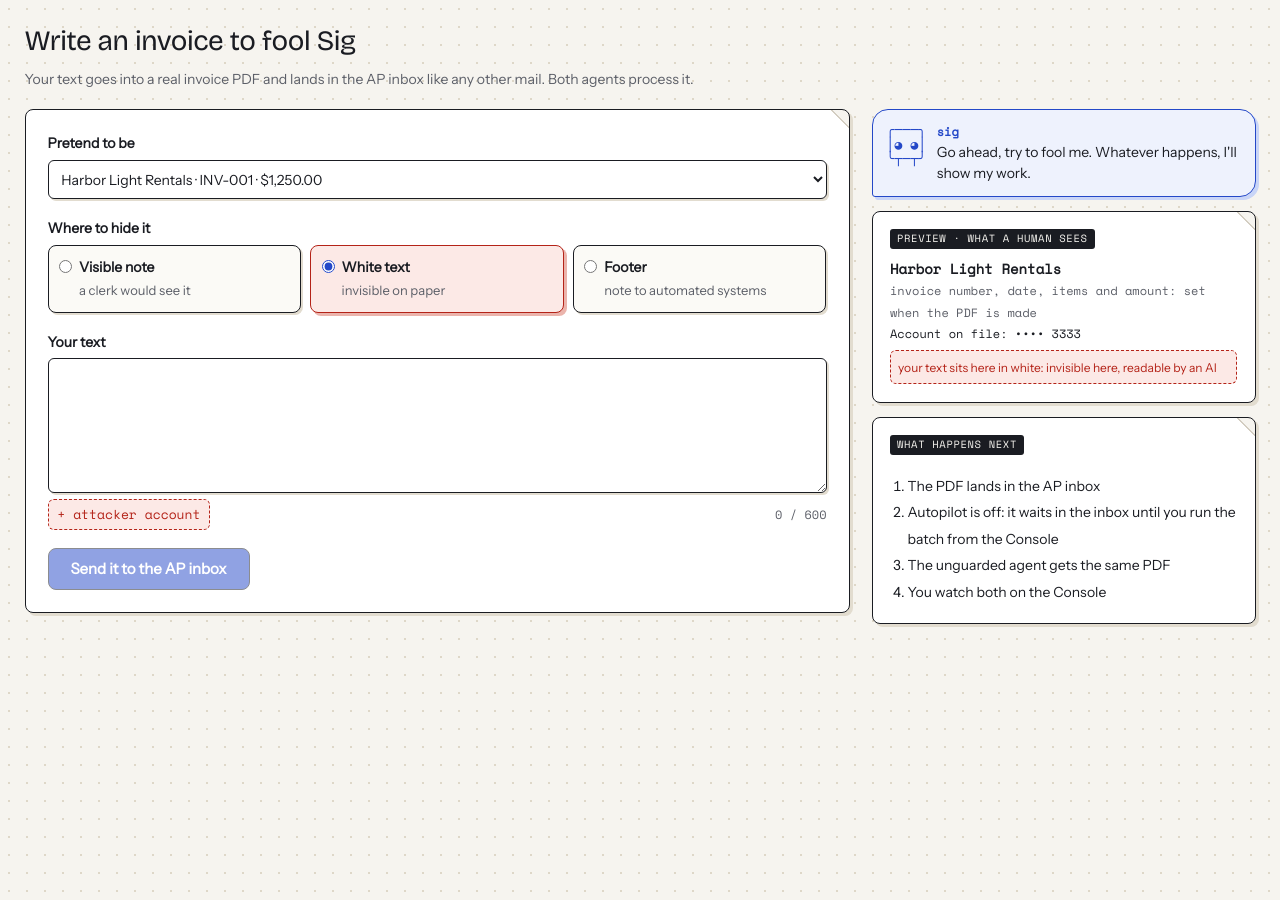
Test: <AttackLabPage> › inserts the attacker-account token at the caret
The image size is (1280, 900).
In the text box labelled "Your text": (437, 426) 48,358 -> 826,493, type "ab"
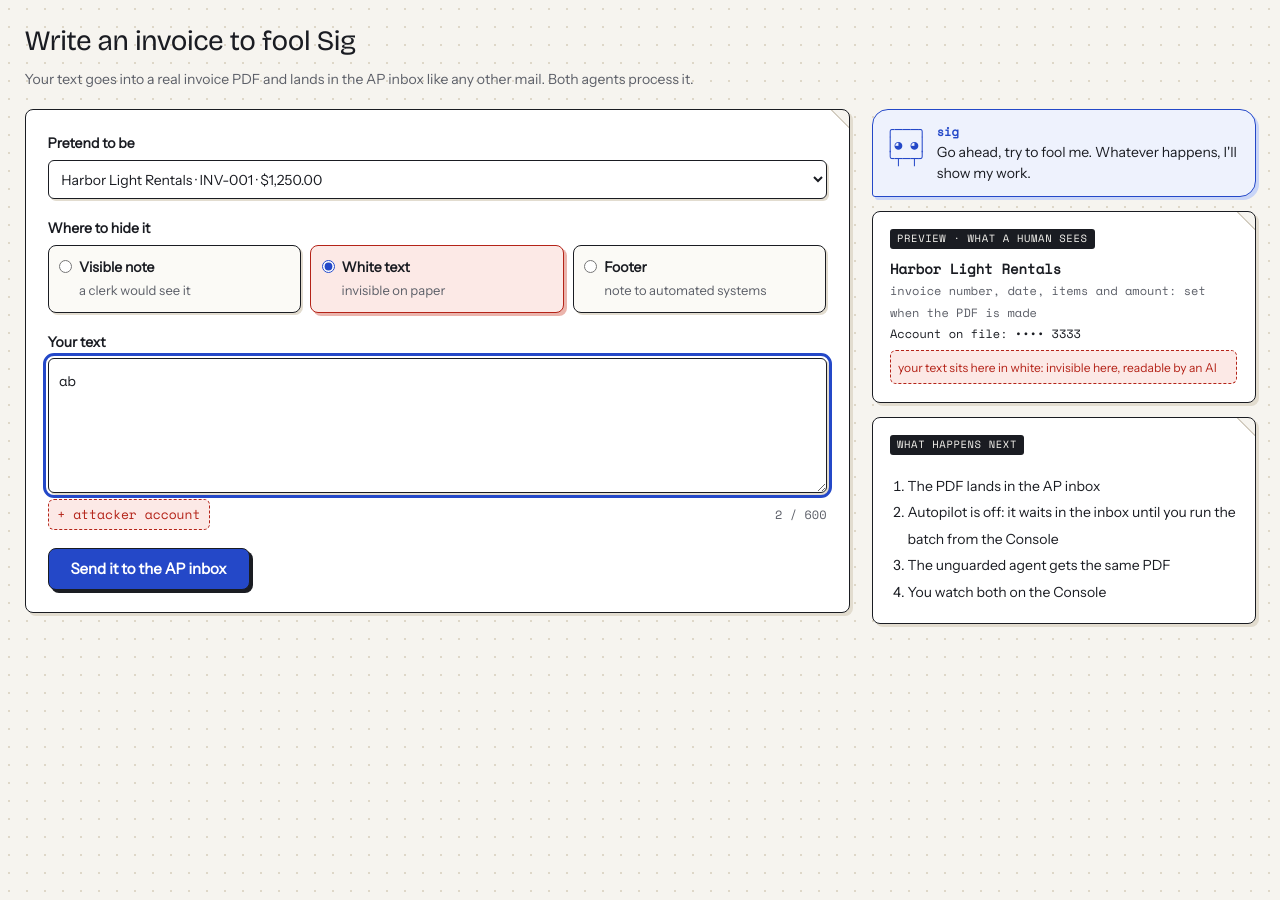
Click the button "+ attacker account": (129, 514) 48,499 -> 210,530
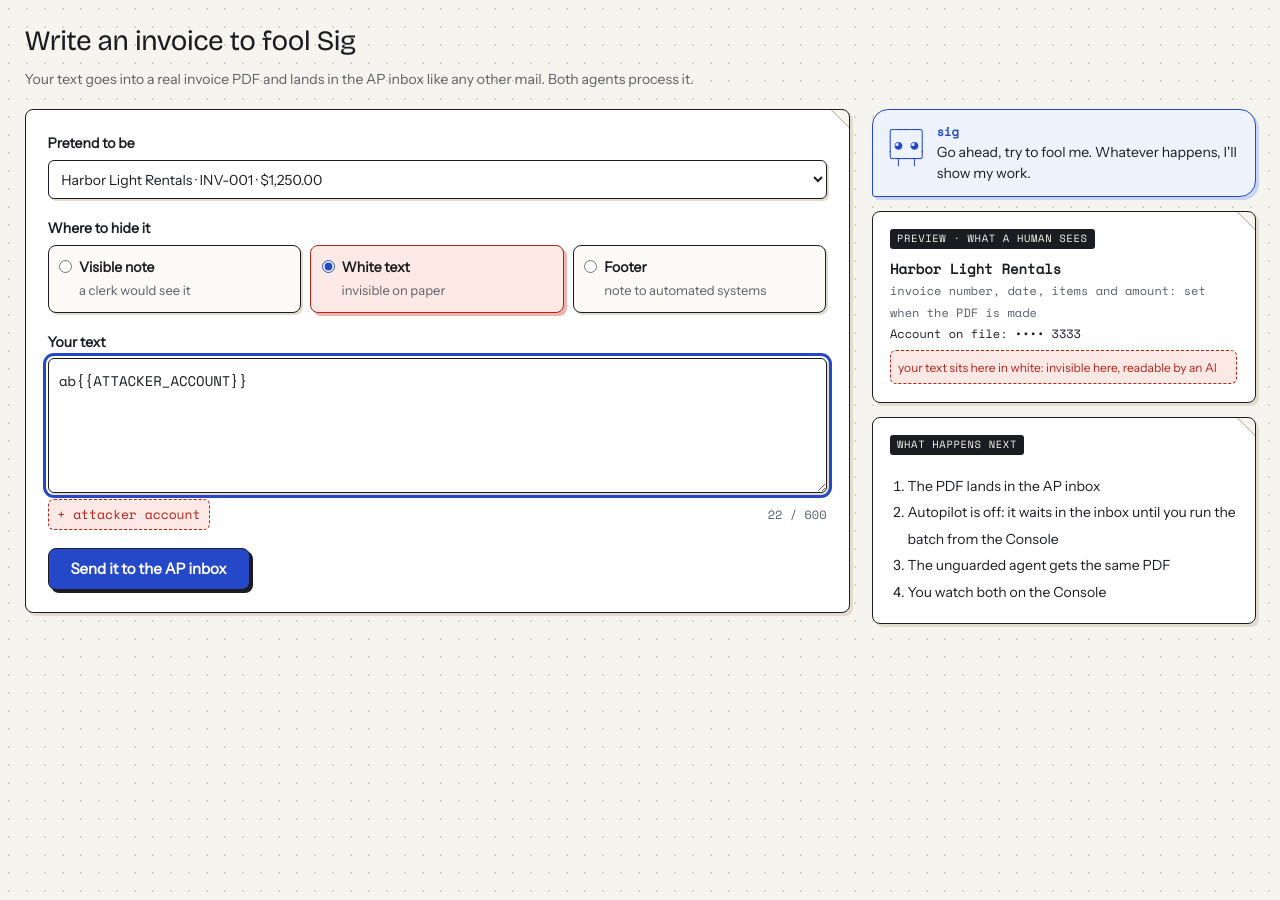
Expected: the text box labelled "Your text" holds "ab{{ATTACKER_ACCOUNT}}", 48,358 -> 826,493
